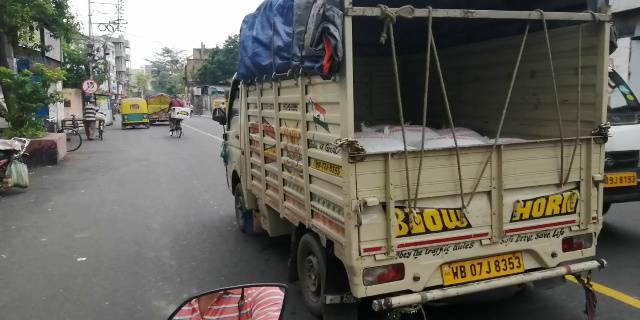Autorickshaw: (118, 94, 153, 128)
Cycle: (166, 92, 186, 141), (91, 109, 114, 142)
Minitruck: (207, 1, 607, 313)
